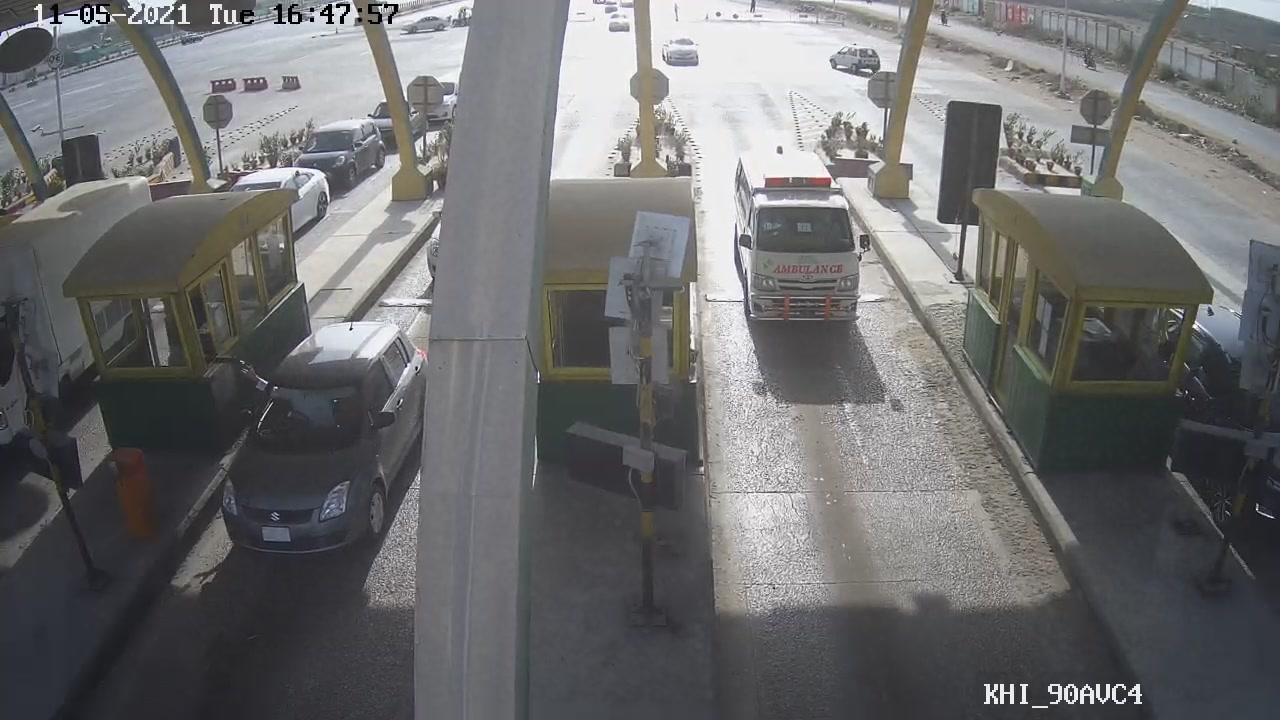F2: (728, 142, 882, 339)
